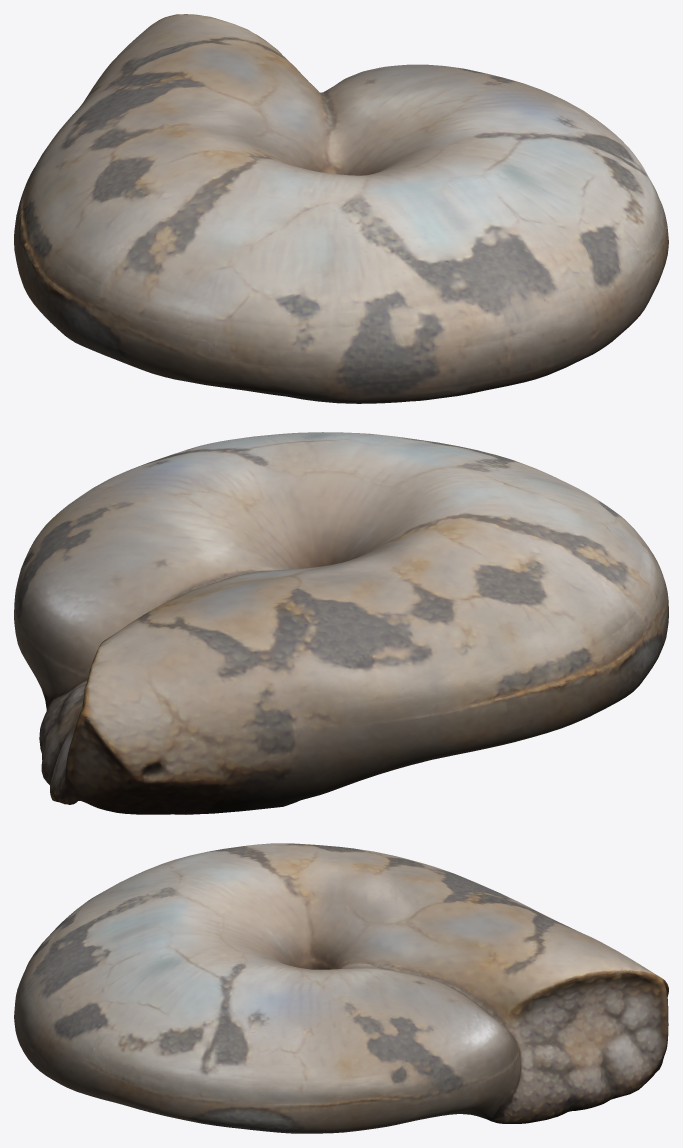
3 views of the same model, one above another, from view 1: azimuth 30°, elevation 25°; view 2: azimuth 150°, elevation 25°; view 3: azimuth 270°, elevation 25° (orthographic). The views are drawn at different scales.
Visible parts, largest first — view 1: geometry_0; view 2: geometry_0; view 3: geometry_0.
Boxes of the visible parts, x1,y1,x2,y2 form: geometry_0: [14, 14, 668, 403]; geometry_0: [14, 432, 668, 814]; geometry_0: [14, 843, 668, 1133].
Size of the model in its own units: 0.2036 by 0.0615 by 0.24.
Materials: 1 (1 with a texture image).
